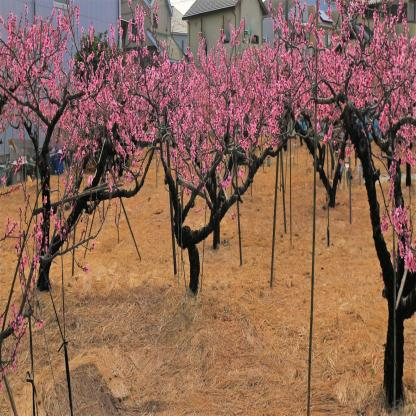Momo: (0, 0, 152, 282), (123, 0, 288, 237), (315, 0, 415, 312), (259, 0, 358, 189), (0, 194, 65, 396)
